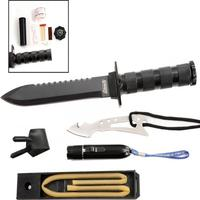knife: (2, 67, 200, 108), (62, 112, 195, 141)
